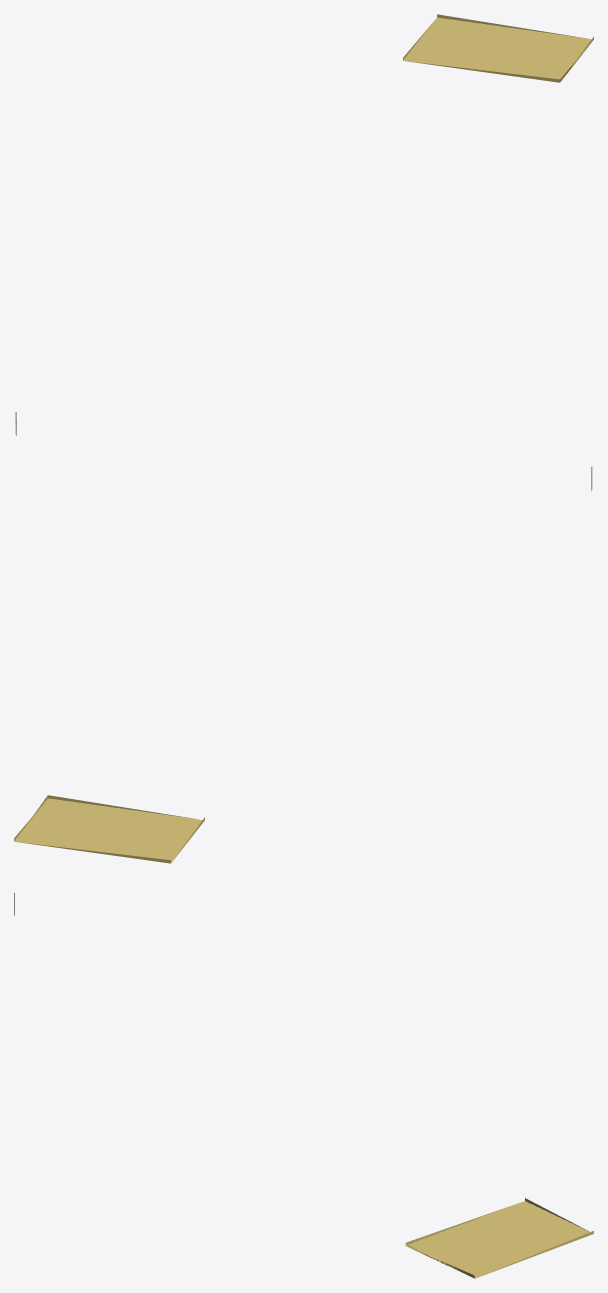
The picture shows the model from 3 angles, top to bottom: view 1: azimuth 30°, elevation 25°; view 2: azimuth 210°, elevation 25°; view 3: azimuth 270°, elevation 25°; orthographic projection. The views are drawn at different scales.
Bounding box in the file's own units: 77.88 × 2.5 × 49.52.
